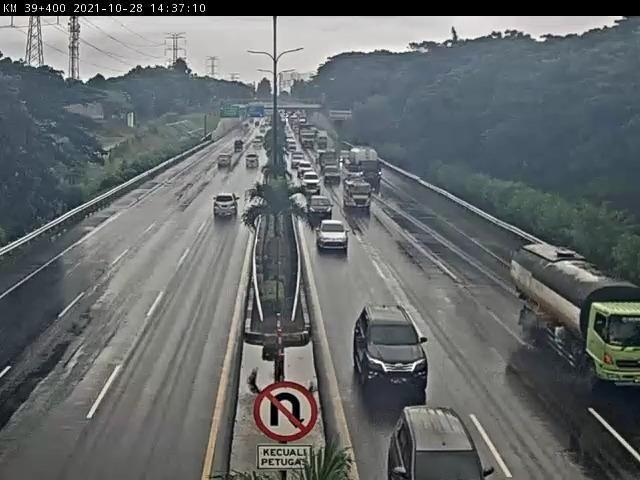car: (378, 398, 497, 480), (343, 299, 436, 400), (315, 218, 353, 256), (211, 190, 241, 222), (305, 192, 337, 222), (319, 163, 345, 188), (298, 169, 322, 193), (244, 153, 263, 173), (297, 160, 317, 179), (215, 154, 235, 170), (290, 154, 305, 169), (233, 140, 246, 155), (252, 139, 264, 153)
truck: (505, 241, 640, 389), (347, 144, 384, 191), (340, 172, 372, 211)
